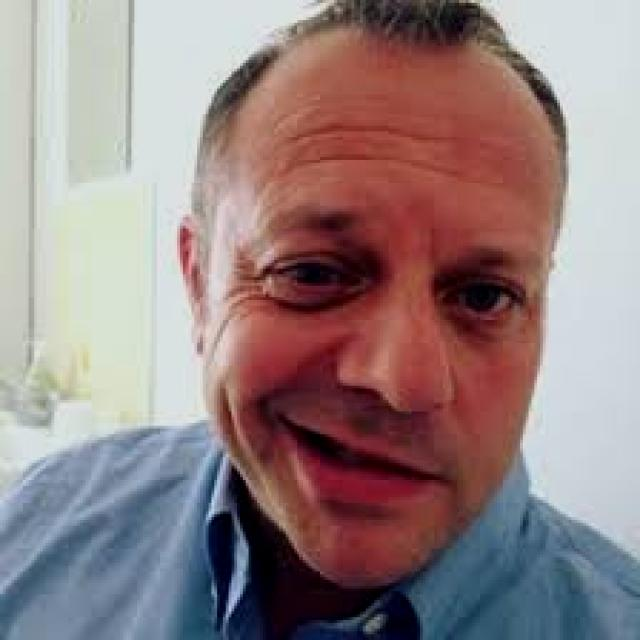stroke_face: (154, 38, 557, 600)
